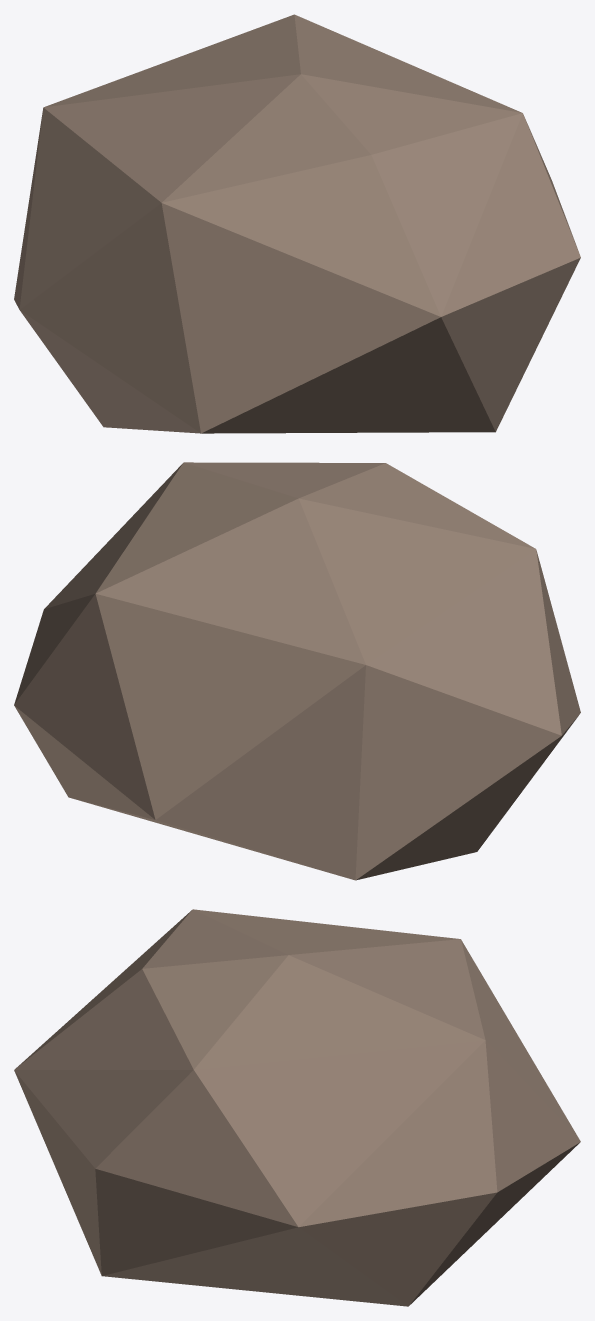
File: Rock7.fbx
3 renders of one model, top to bottom at view 1: azimuth 30°, elevation 25°; view 2: azimuth 150°, elevation 25°; view 3: azimuth 270°, elevation 25°, orthographic. The views are drawn at different scales.
Parts seen in each view (by area): view 1: Rock7; view 2: Rock7; view 3: Rock7.
Boxes of the visible parts, x1,y1,x2,y2 form: Rock7: [14, 14, 580, 433]; Rock7: [14, 462, 580, 880]; Rock7: [14, 909, 580, 1306].
Bounding box in the file's own units: 0.6917 × 0.387 × 0.6977.
